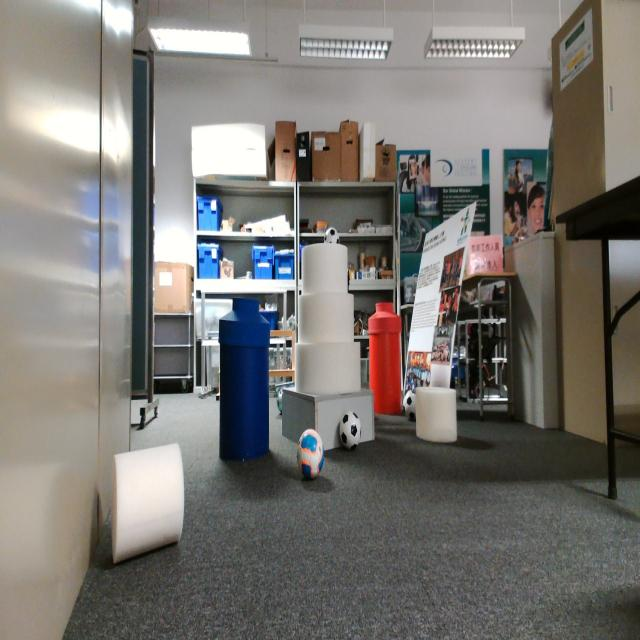ball: (296, 428, 325, 482), (339, 409, 362, 452), (402, 388, 416, 424), (323, 226, 340, 245), (276, 386, 286, 416)
